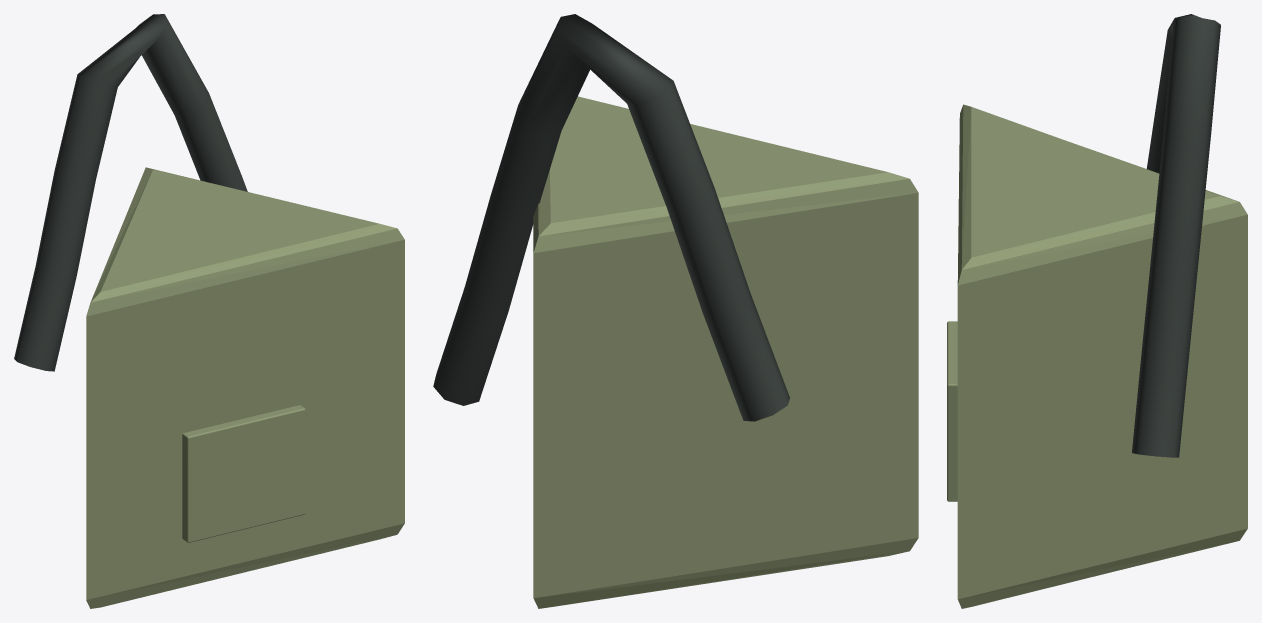
Rendered from backpacks-and-expedition-storage-triangular-sling-pack-4cb57f4e__21074.glb.
3 renders of one model, left to right at view 1: azimuth 30°, elevation 25°; view 2: azimuth 150°, elevation 25°; view 3: azimuth 270°, elevation 25°, orthographic. The views are drawn at different scales.
Parts seen in each view (by area): view 1: triangular-sling-pack; view 2: triangular-sling-pack; view 3: triangular-sling-pack.
Boxes of the visible parts, box(x1,y1,x2,y2) form: triangular-sling-pack: box(14, 14, 404, 608); triangular-sling-pack: box(433, 14, 918, 608); triangular-sling-pack: box(947, 14, 1247, 608).
Bounding box in the file's own units: 0.3752 × 0.5389 × 0.2779.
